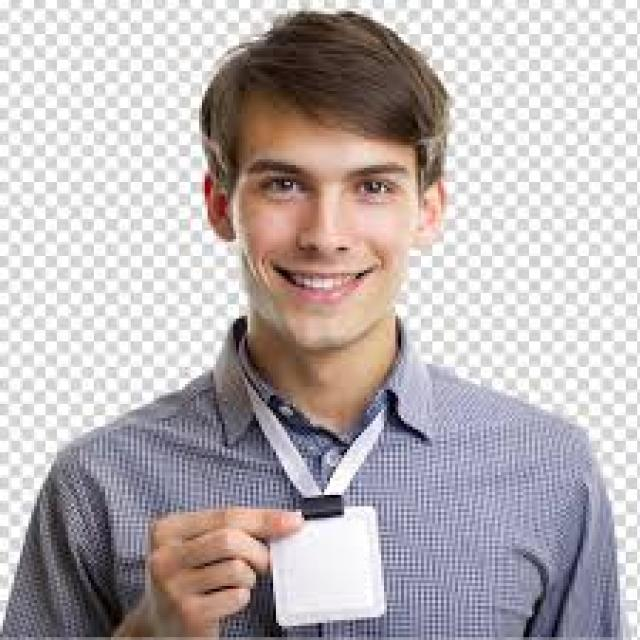id_card: (229, 374, 406, 628)
